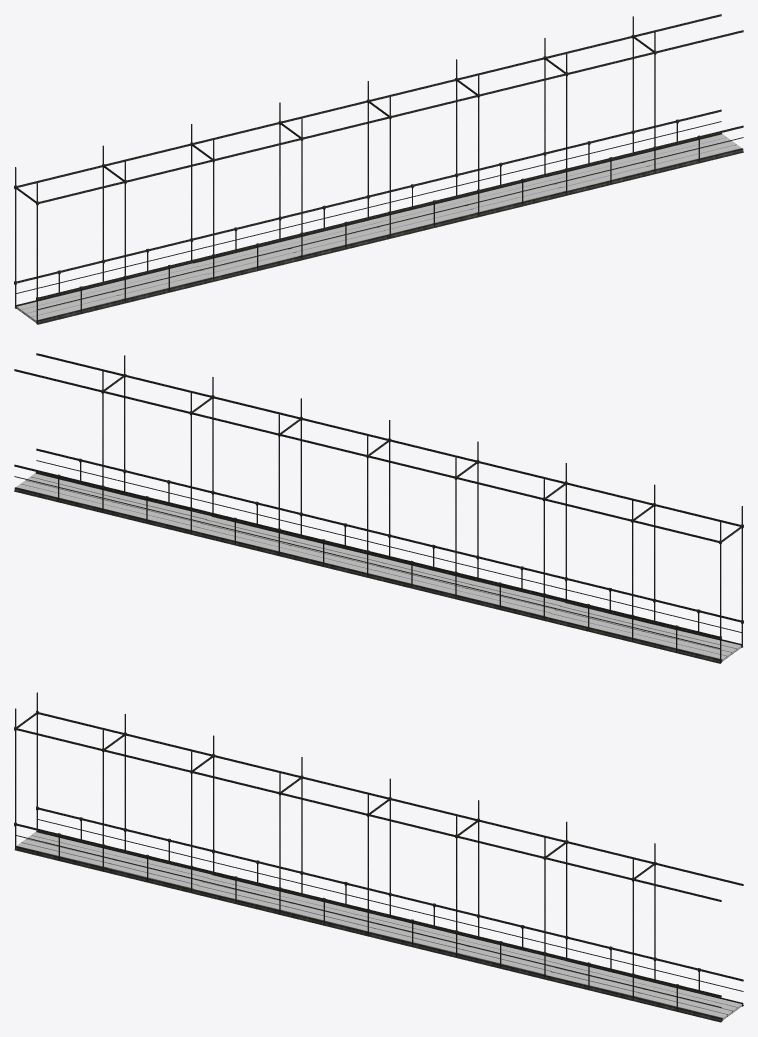
The model's file is tesla_structure_catwalk_02_lower.dae.
The picture shows the model from 3 angles, top to bottom: view 1: azimuth 30°, elevation 25°; view 2: azimuth 150°, elevation 25°; view 3: azimuth 330°, elevation 25°; orthographic projection.
Parts seen in each view (by area): view 1: polySurface109, polySurface108; view 2: polySurface109, polySurface108; view 3: polySurface109, polySurface108.
Boxes of the visible parts, x1,y1,x2,y2 form: polySurface109: [14, 14, 743, 324]; polySurface108: [16, 134, 741, 322]; polySurface109: [14, 353, 743, 663]; polySurface108: [16, 473, 741, 661]; polySurface109: [14, 692, 743, 1022]; polySurface108: [17, 832, 741, 1019].
Size of the model in its own units: 40.04 by 7.64 by 2.26.
